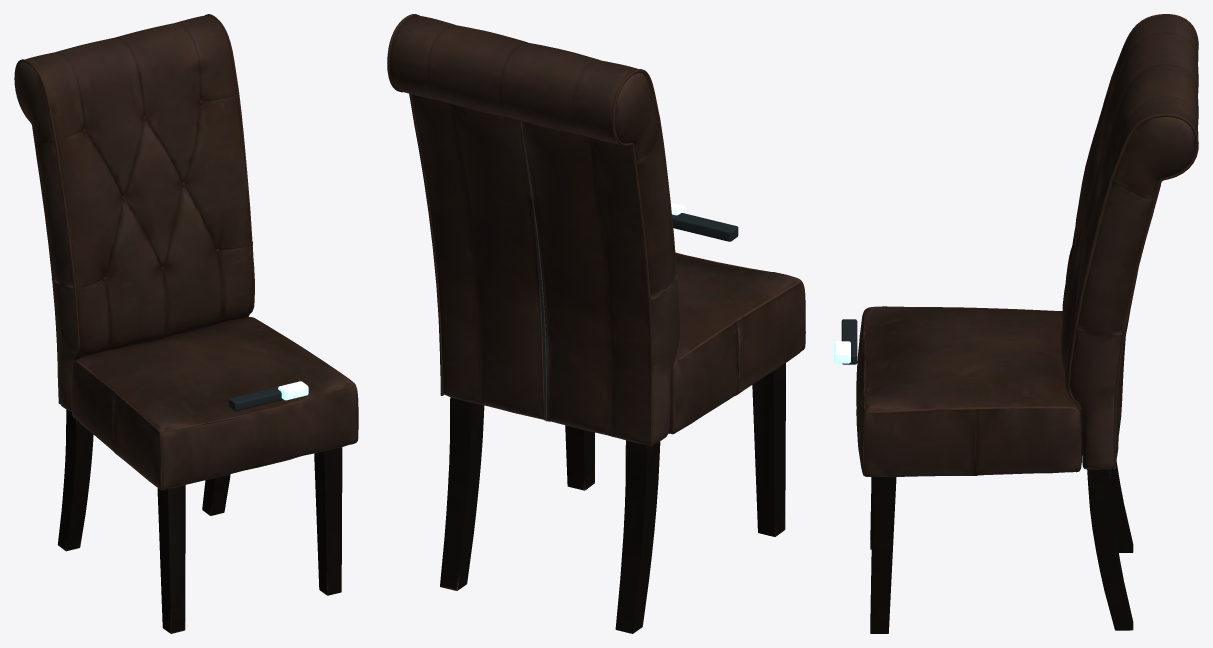
File: hp_l2_cc0_dining_chair_polyhaven_v1.glb
3 renders of one model, left to right at view 1: azimuth 30°, elevation 25°; view 2: azimuth 150°, elevation 25°; view 3: azimuth 270°, elevation 25°, orthographic. The views are drawn at different scales.
Visible parts, largest first — view 1: cc0_source_dining_chair_02, hp_underseat_service_tag; view 2: cc0_source_dining_chair_02, hp_underseat_service_tag; view 3: cc0_source_dining_chair_02, hp_underseat_service_tag.
Boxes of the visible parts, x1=… form: cc0_source_dining_chair_02: x1=14, y1=14, x2=358, y2=633; hp_underseat_service_tag: x1=228, y1=386, x2=283, y2=411; cc0_source_dining_chair_02: x1=387, y1=14, x2=805, y2=633; hp_underseat_service_tag: x1=672, y1=213, x2=738, y2=241; cc0_source_dining_chair_02: x1=856, y1=14, x2=1198, y2=633; hp_underseat_service_tag: x1=841, y1=319, x2=857, y2=364.
Bounding box in the file's own units: 0.4277 × 0.96 × 0.6053.
Materials: 3 (1 with a texture image).
